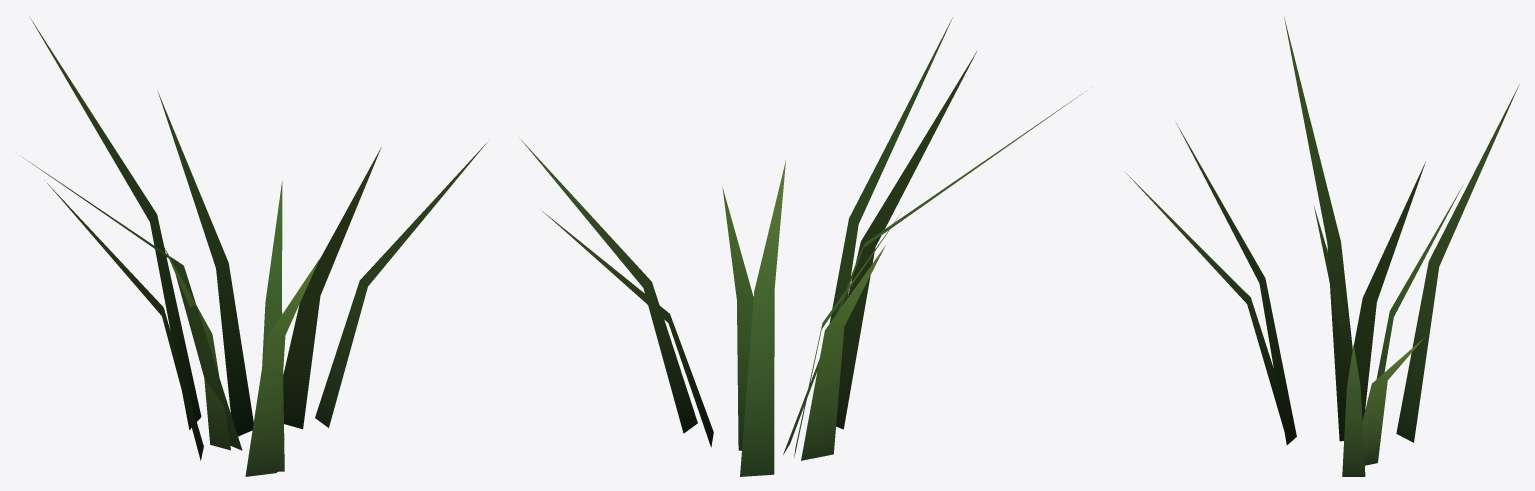
The model's file is grass-broad-a.lod1.glb.
3 renders of one model, left to right at view 1: azimuth 30°, elevation 25°; view 2: azimuth 150°, elevation 25°; view 3: azimuth 270°, elevation 25°, orthographic. The views are drawn at different scales.
Visible parts, largest first — view 1: grass-broad-a.lod1; view 2: grass-broad-a.lod1; view 3: grass-broad-a.lod1.
Part boxes in pixels (bbox=[...]): grass-broad-a.lod1: bbox=[24, 18, 487, 476]; grass-broad-a.lod1: bbox=[519, 18, 1085, 476]; grass-broad-a.lod1: bbox=[1125, 16, 1519, 476].
Bounding box in the file's own units: 0.8343 × 0.5974 × 0.6691.
